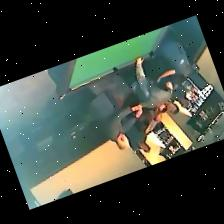person: (81, 88, 141, 148), (130, 57, 172, 111)
